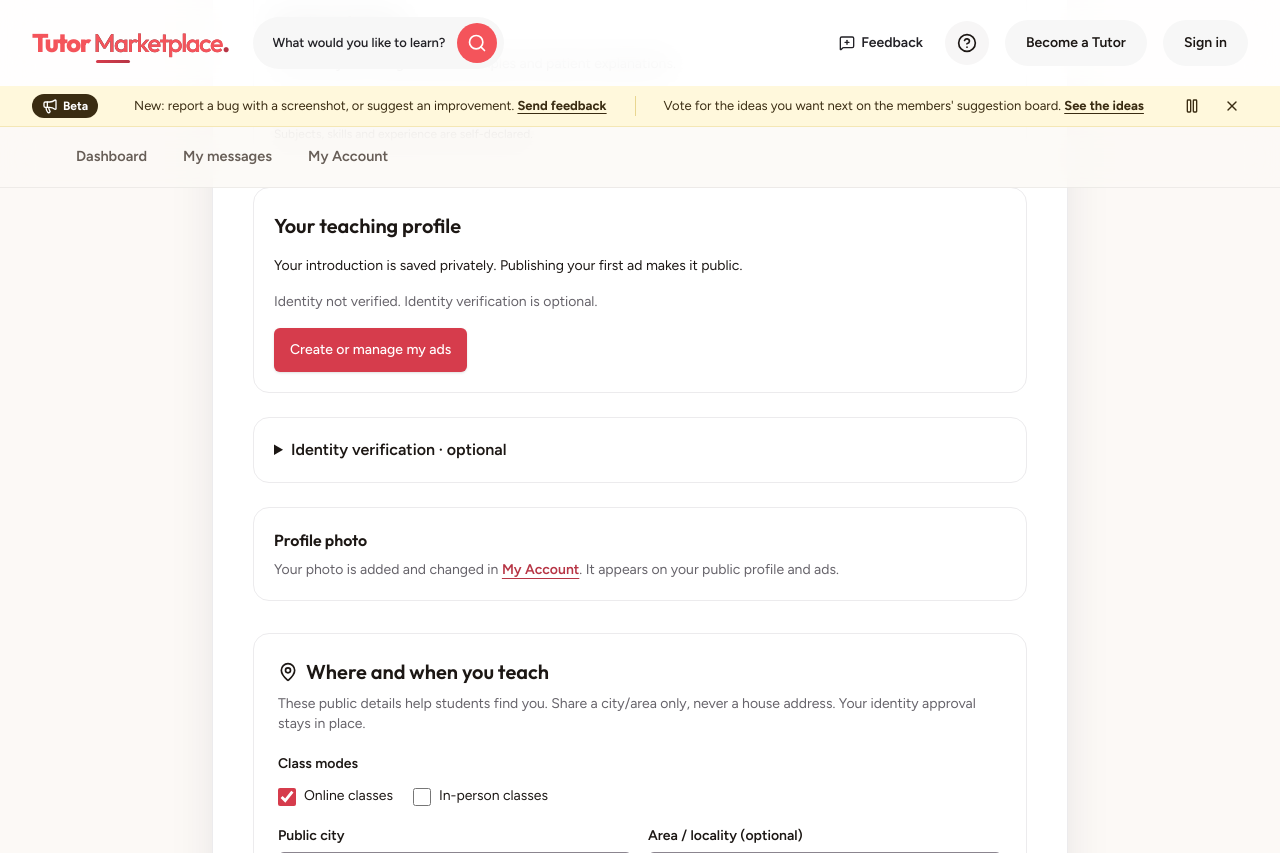
one upload automatically submits identity and restores scan and pending review status after reload
Later steps or results of the test are not shown.
(page scrolled)
Click the heading "Identity verification · optional".
click(399, 450)  # box [291, 440, 506, 459]
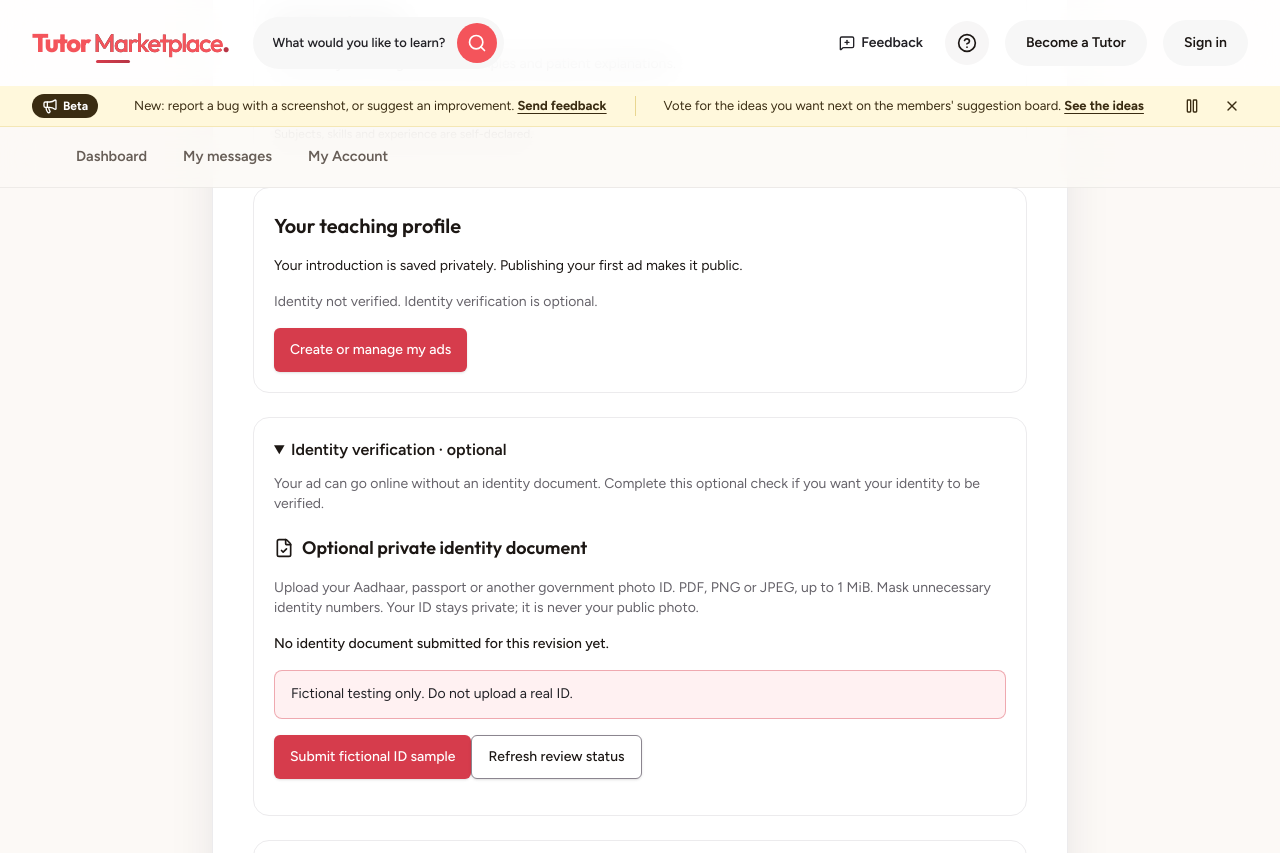
Click the button "Submit fictional ID sample".
click(373, 757)  # box [274, 735, 471, 779]
(page scrolled)
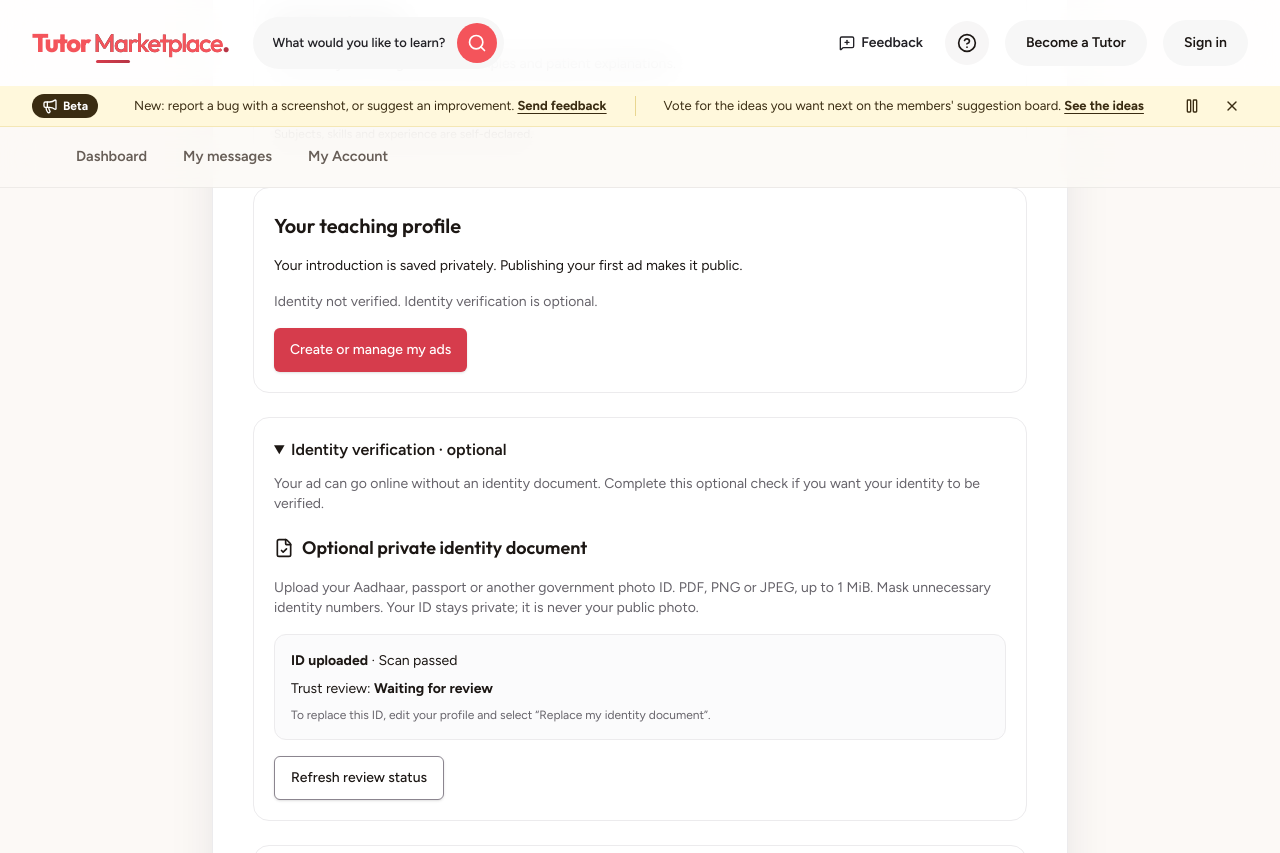
Expected: the text "Waiting for review" is shown, [374, 680, 493, 697]
Expected: the button "Submit fictional ID sample" is gone
